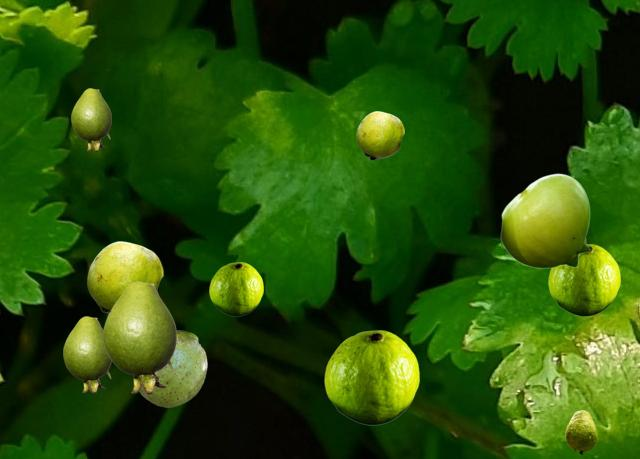guava: (324, 330, 418, 424), (500, 173, 589, 267), (103, 281, 175, 393), (87, 241, 162, 313), (139, 330, 206, 406), (548, 244, 619, 315), (63, 316, 111, 392), (209, 262, 262, 315), (71, 88, 110, 150), (356, 111, 403, 159), (565, 410, 596, 453)
